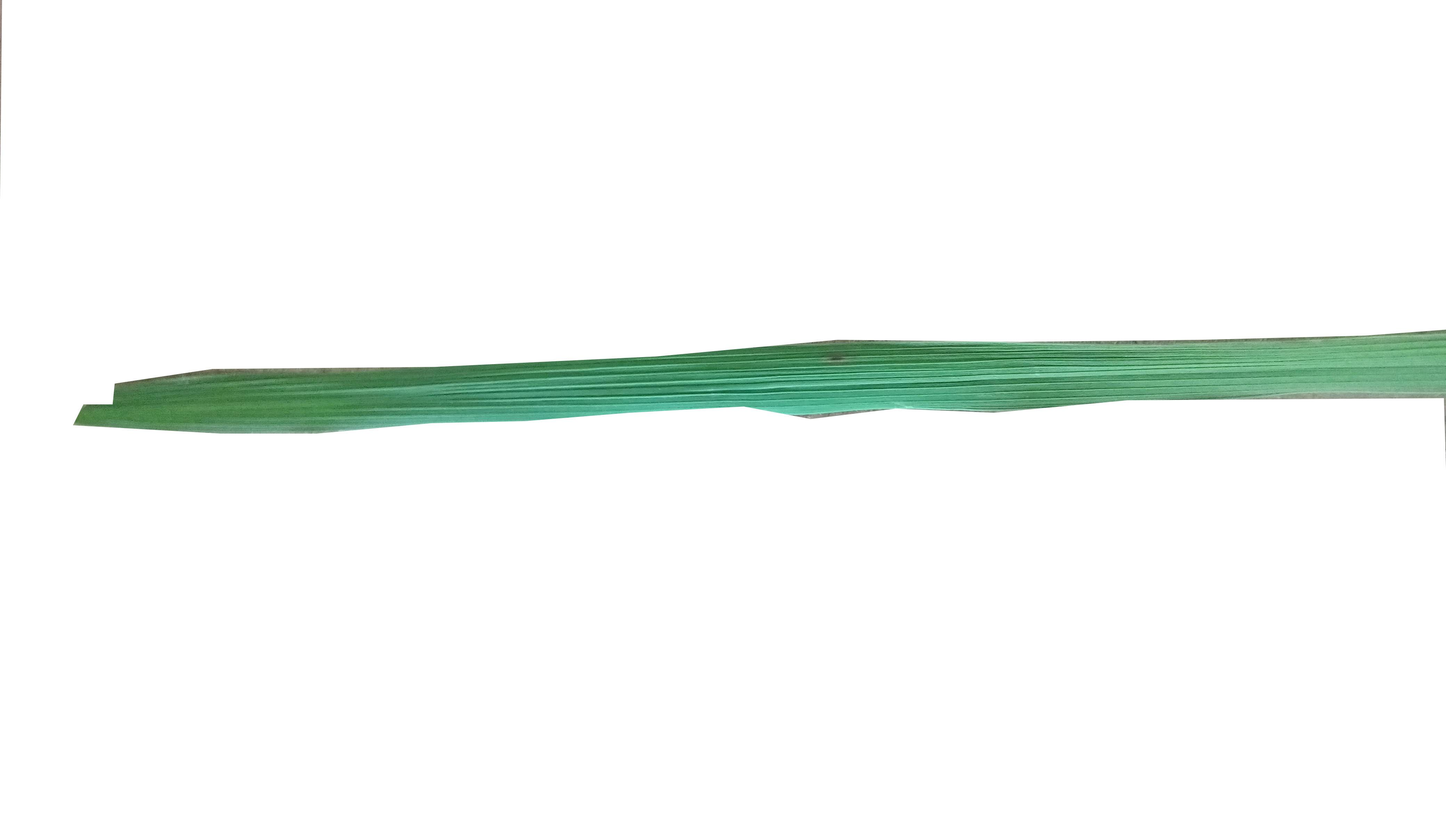Brown spot: (818, 347, 856, 373)
